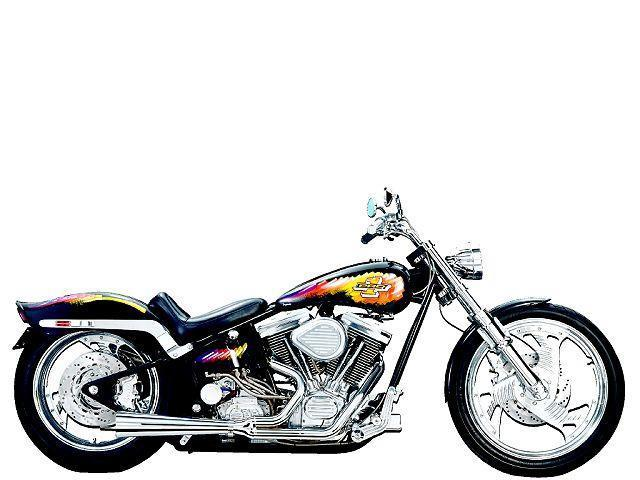motorcycle: (1, 173, 640, 480)
